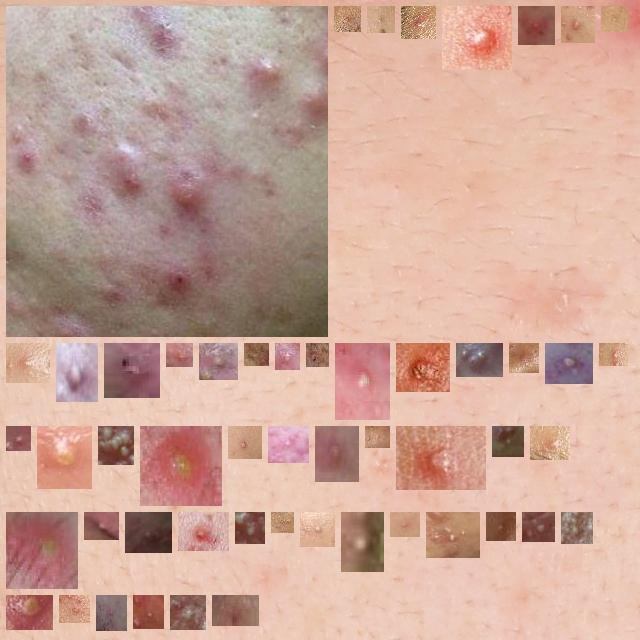pustule: (14, 14, 320, 329), (148, 434, 214, 498), (404, 434, 478, 482), (14, 520, 70, 581), (450, 14, 504, 62), (343, 351, 382, 412), (45, 434, 84, 481), (112, 351, 152, 390), (404, 351, 442, 384), (349, 520, 376, 564), (434, 520, 472, 550), (323, 434, 351, 474), (64, 351, 90, 394), (186, 520, 221, 543), (553, 351, 585, 376), (133, 520, 164, 545), (220, 603, 251, 625), (14, 351, 42, 375), (14, 603, 45, 622), (464, 351, 495, 369), (276, 434, 301, 455), (526, 14, 547, 37), (207, 351, 230, 372), (106, 434, 126, 457), (538, 434, 562, 452), (178, 603, 198, 622), (308, 520, 327, 539), (409, 14, 428, 31), (236, 434, 254, 451), (104, 603, 119, 623), (141, 603, 156, 621), (569, 520, 585, 536), (530, 520, 548, 534), (500, 434, 516, 449), (92, 520, 111, 532), (243, 520, 257, 536), (517, 351, 531, 365), (494, 520, 508, 533), (67, 603, 82, 615), (375, 14, 387, 25), (398, 520, 412, 529), (342, 14, 353, 24), (283, 351, 292, 362), (607, 351, 620, 358), (174, 351, 185, 359), (14, 434, 23, 443), (252, 351, 261, 358), (314, 351, 321, 359), (373, 434, 382, 440), (279, 520, 286, 525)
